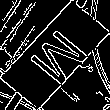M_SE: (19, 21, 91, 89)
